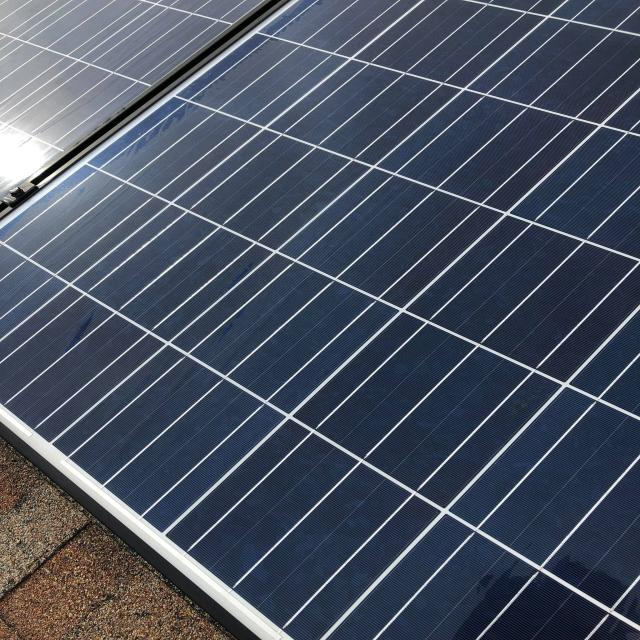clean-solar-panel: (2, 0, 638, 640)
